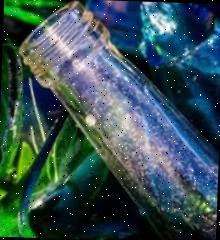glass: (14, 1, 220, 240)
